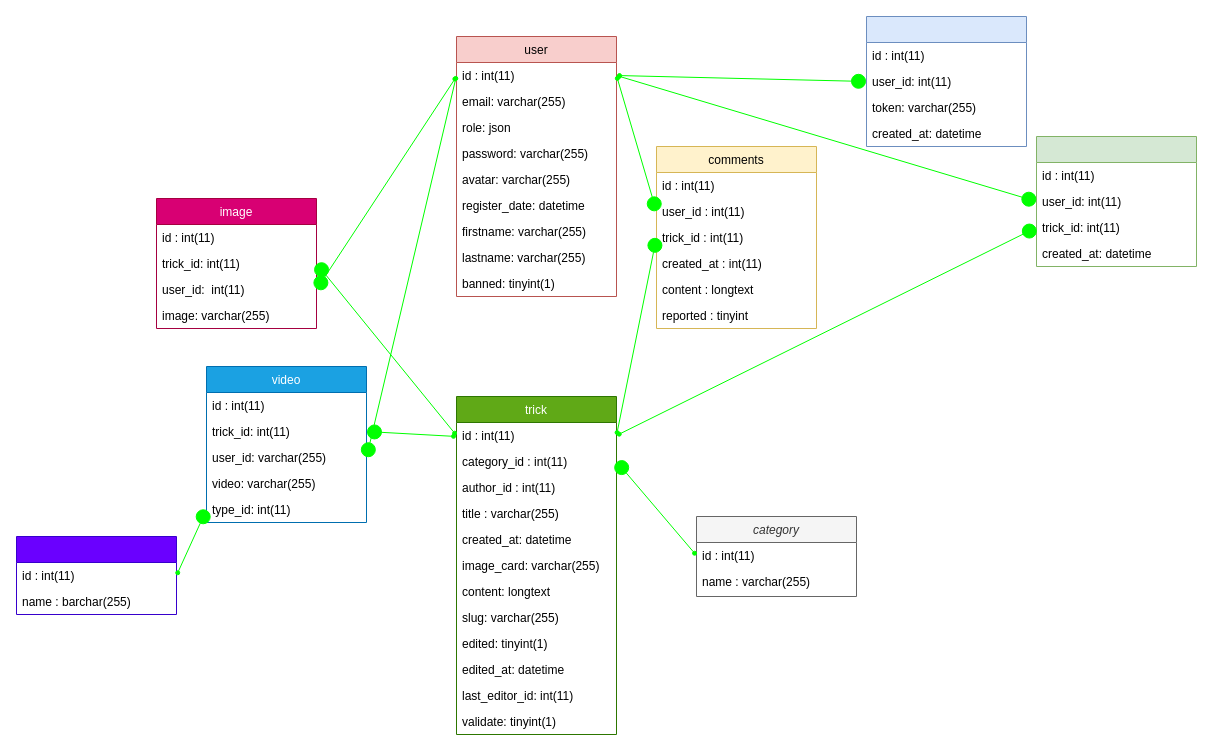
Some shapes in this 1213 by 751 pixel diagram are drawn without their labels. Each missing label, with the box of its shape:
contributor: (1036, 136, 1196, 266)
forgot_password: (866, 16, 1026, 146)
video_type: (16, 536, 176, 614)
